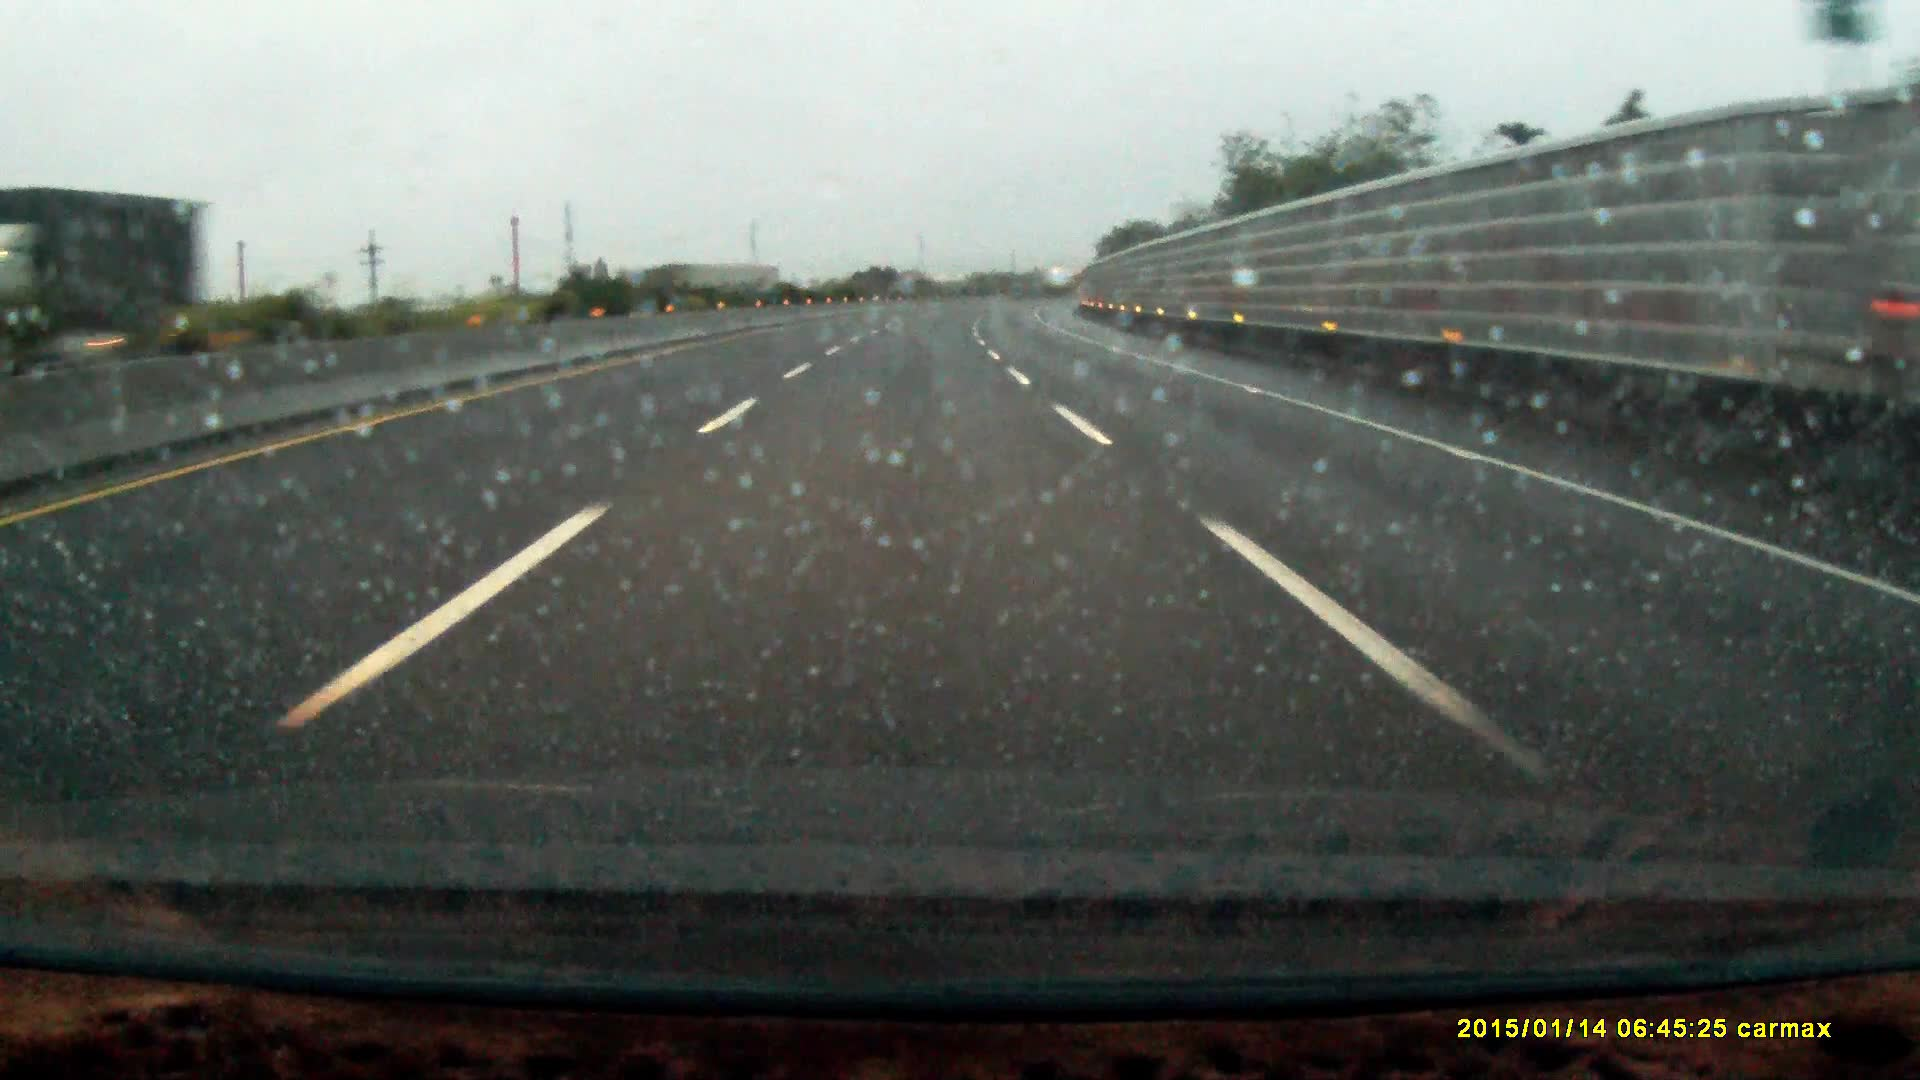vehicle: (1, 190, 227, 373)
